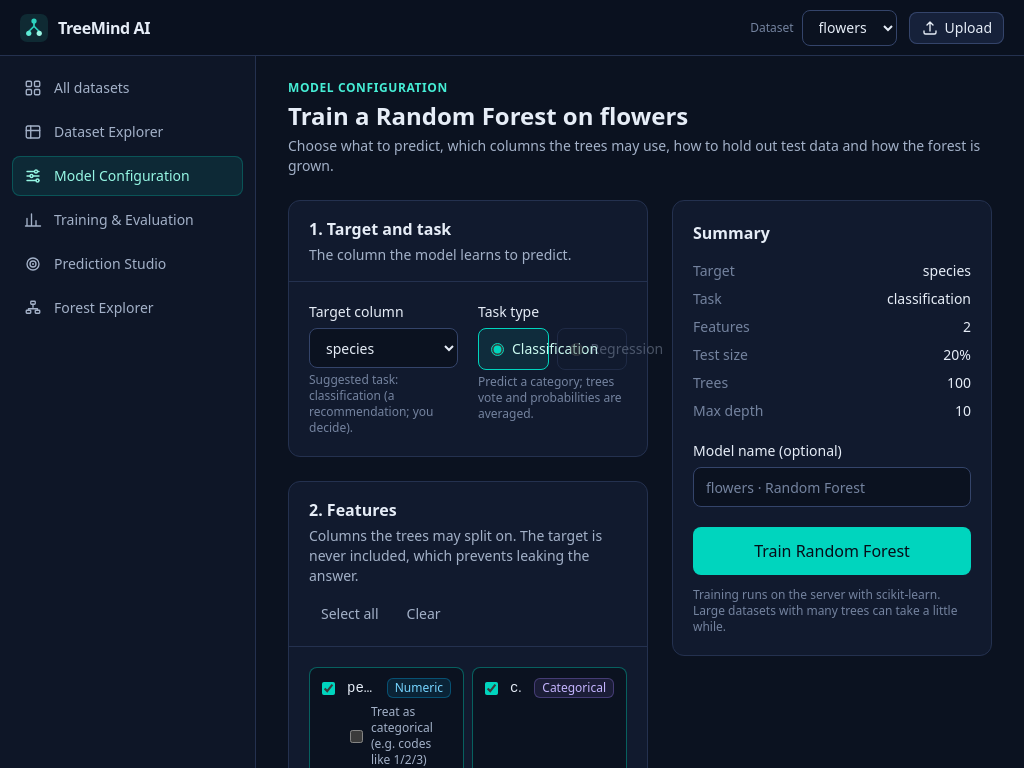
Test: Model Configuration › shows backend training errors
The image size is (1024, 768).
Expected: the dropdown labelled "Target column" is shown, [309, 328, 458, 368]
Click the button "Train Random Forest": {"x": 832, "y": 551} [693, 527, 971, 575]
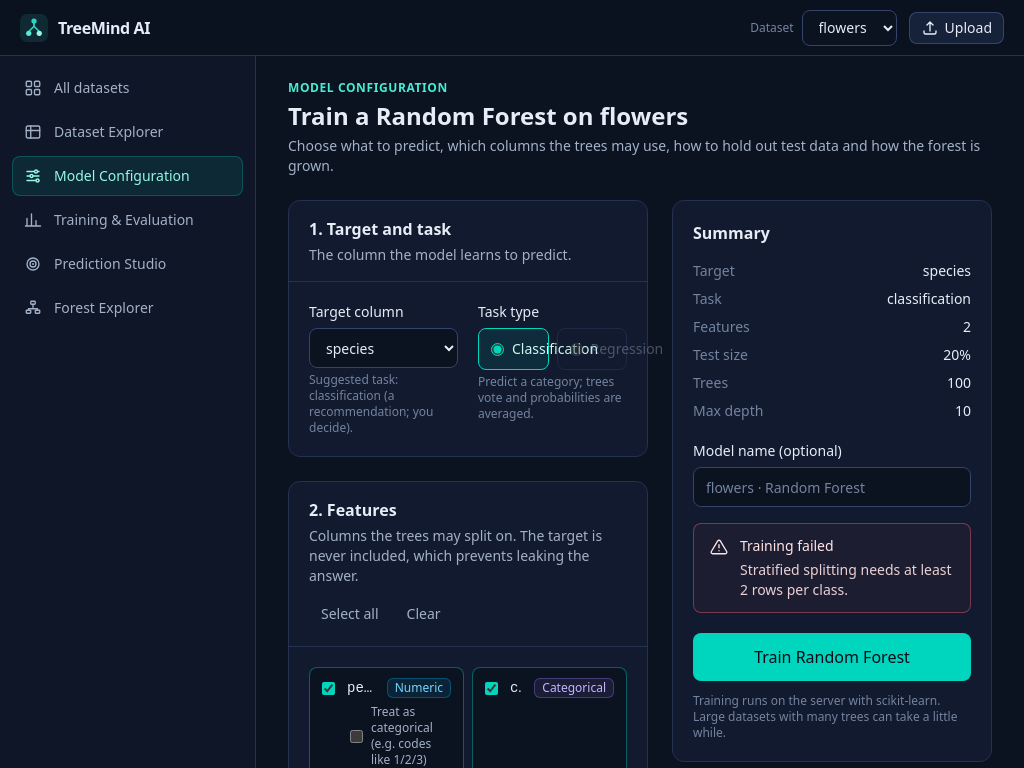
Result: the text "Stratified splitting needs at least 2 rows per class." is shown at [740, 560, 954, 600]
